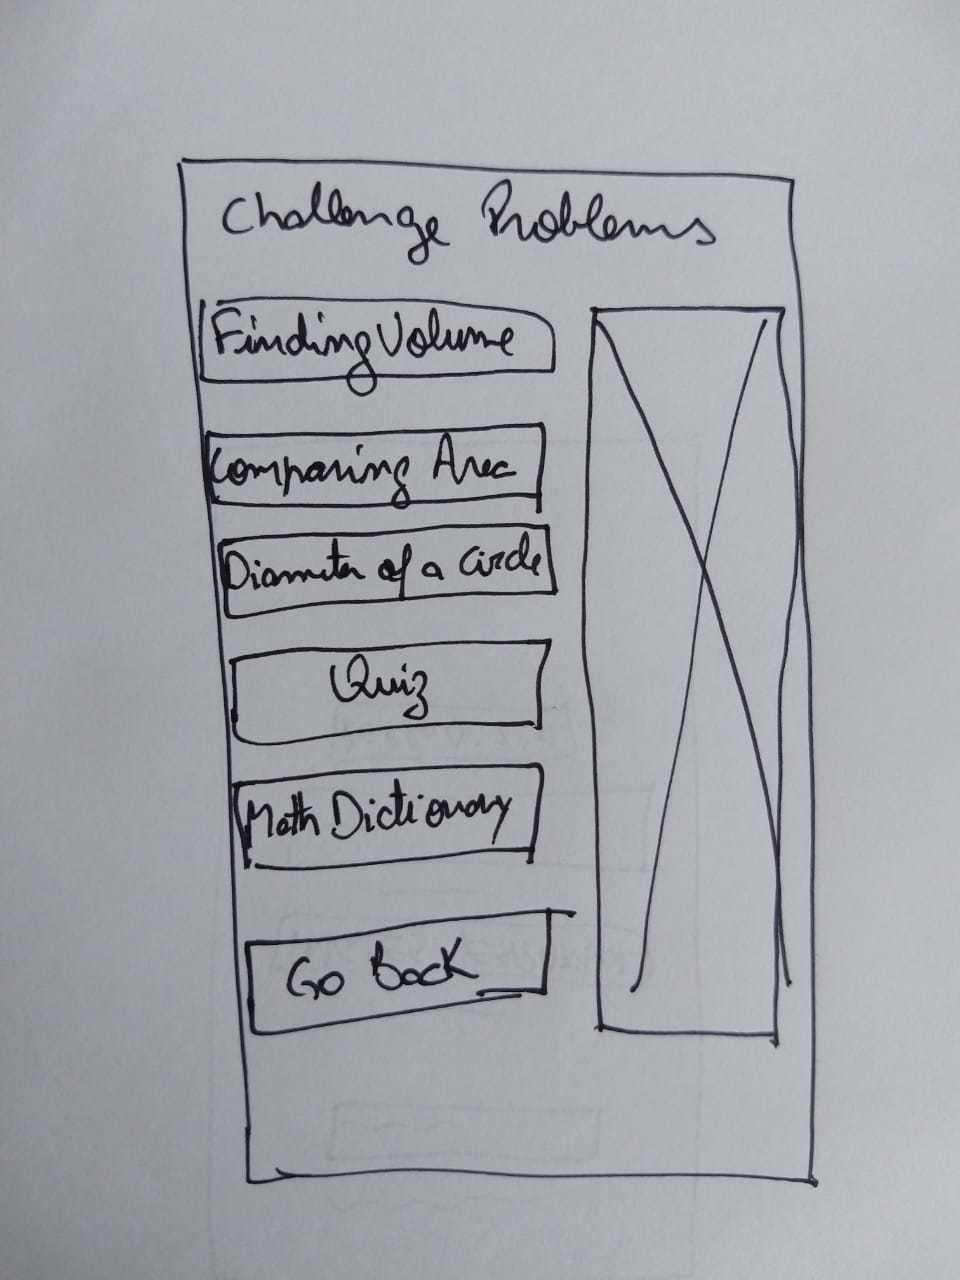Button: (246, 908, 553, 1036), (232, 639, 553, 748), (234, 763, 545, 873), (218, 521, 558, 620), (195, 294, 557, 384), (204, 423, 547, 509)
Image: (584, 306, 798, 1037)
Label: (223, 178, 719, 266)
Screen: (176, 154, 816, 1185)
